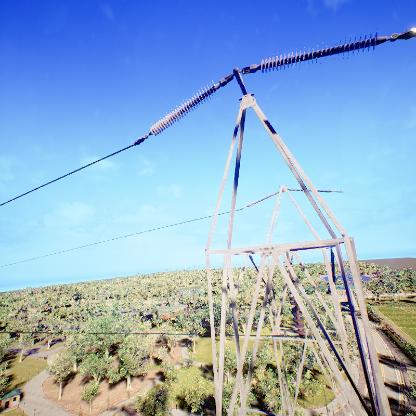insulator: (260, 28, 381, 77), (147, 80, 220, 139)
